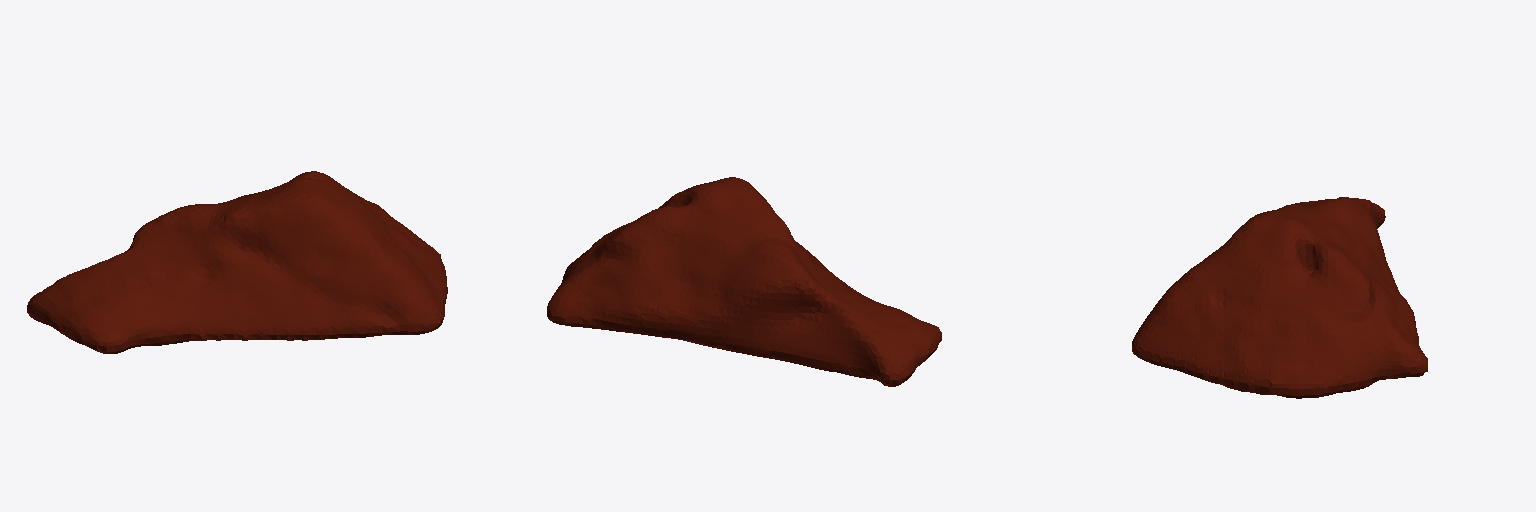
File: BeefLiverRecon.obj
The picture shows the model from 3 angles: view 1: azimuth 30°, elevation 25°; view 2: azimuth 150°, elevation 25°; view 3: azimuth 270°, elevation 25°; orthographic projection.
Parts seen in each view (by area): view 1: Main_Tissue.002_testMesh.003; view 2: Main_Tissue.002_testMesh.003; view 3: Main_Tissue.002_testMesh.003.
Boxes of the visible parts, box(x1,y1,x2,y2) form: Main_Tissue.002_testMesh.003: box(27, 171, 447, 353); Main_Tissue.002_testMesh.003: box(547, 177, 941, 386); Main_Tissue.002_testMesh.003: box(1132, 197, 1427, 398).
Bounding box in the file's own units: 2.33 × 0.7339 × 1.63.